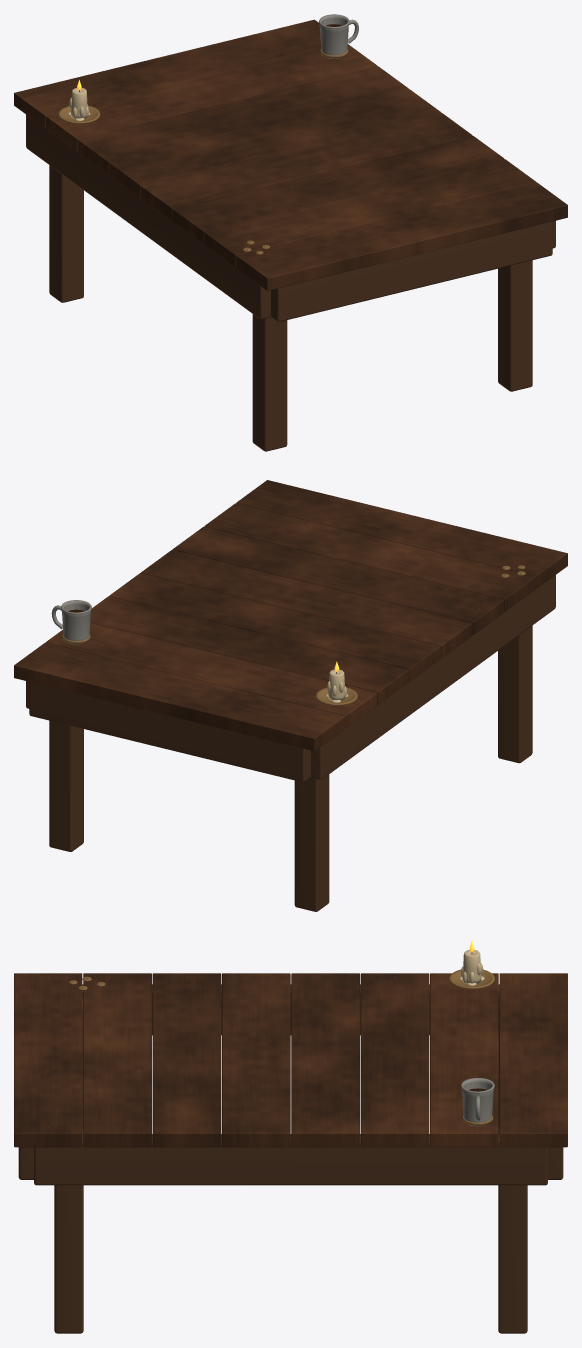
File: tavern-table.glb
3 views of the same model, one above another, from view 1: azimuth 30°, elevation 25°; view 2: azimuth 150°, elevation 25°; view 3: azimuth 270°, elevation 25° (orthographic). The views are drawn at different scales.
Visible parts, largest first — view 1: Tabletop_Plank_01, Tabletop_Plank_03, Tabletop_Plank_06, Tabletop_Plank_04, Tabletop_Plank_05, Tabletop_Plank_02, Table_Apron_Player, Tabletop_Plank_08, Tabletop_Plank_07, Table_Apron_Left, Table_Leg_Left_Player, Table_Leg_Right_Player (+3 smaller); view 2: Tabletop_Plank_08, Tabletop_Plank_03, Tabletop_Plank_04, Tabletop_Plank_05, Tabletop_Plank_02, Tabletop_Plank_01, Table_Apron_Opponent, Tabletop_Plank_06, Tabletop_Plank_07, Table_Apron_Left, Table_Leg_Left_Opponent, Table_Leg_Right_Opponent (+3 smaller); view 3: Table_Apron_Right, Tabletop_Plank_03, Tabletop_Plank_06, Tabletop_Plank_04, Tabletop_Plank_05, Tabletop_Plank_08, Tabletop_Plank_01, Tabletop_Plank_02, Tabletop_Plank_07, Table_Leg_Right_Opponent, Table_Leg_Right_Player, Tankard_Body (+3 smaller).
Boxes of the visible parts, box(x1,y1,x2,y2) form: Tabletop_Plank_01: box(236, 182, 567, 290); Tabletop_Plank_03: box(172, 136, 504, 244); Tabletop_Plank_06: box(77, 66, 408, 174); Tabletop_Plank_04: box(141, 112, 472, 221); Tabletop_Plank_05: box(109, 89, 440, 197); Tabletop_Plank_02: box(204, 159, 535, 267); Table_Apron_Player: box(271, 221, 552, 321); Tabletop_Plank_08: box(14, 19, 321, 128); Tabletop_Plank_07: box(45, 44, 377, 151); Table_Apron_Left: box(26, 114, 270, 319); Table_Leg_Left_Player: box(252, 314, 287, 451); Table_Leg_Right_Player: box(498, 260, 532, 391); Tabletop_Plank_08: box(14, 642, 345, 751); Tabletop_Plank_03: box(172, 526, 504, 634); Tabletop_Plank_04: box(141, 549, 472, 658); Tabletop_Plank_05: box(109, 573, 440, 681); Tabletop_Plank_02: box(204, 503, 536, 611); Tabletop_Plank_01: box(236, 480, 567, 588); Table_Apron_Opponent: box(29, 682, 310, 782); Tabletop_Plank_06: box(90, 596, 409, 704); Tabletop_Plank_07: box(46, 622, 377, 727); Table_Apron_Left: box(311, 575, 555, 779); Table_Leg_Left_Opponent: box(294, 774, 329, 911); Table_Leg_Right_Opponent: box(49, 720, 83, 851); Table_Apron_Right: box(34, 1134, 547, 1185); Tabletop_Plank_03: box(152, 973, 221, 1147); Tabletop_Plank_06: box(360, 973, 429, 1147); Tabletop_Plank_04: box(222, 973, 290, 1147); Tabletop_Plank_05: box(291, 973, 359, 1147); Tabletop_Plank_08: box(499, 973, 567, 1147); Tabletop_Plank_01: box(14, 973, 82, 1147); Tabletop_Plank_02: box(83, 973, 151, 1147); Tabletop_Plank_07: box(430, 973, 498, 1147); Table_Leg_Right_Opponent: box(498, 1128, 527, 1333); Table_Leg_Right_Player: box(54, 1128, 83, 1333); Tankard_Body: box(461, 1079, 494, 1126).
Bounding box in the file's own units: 1.31 × 0.959 × 1.9.
Materials: 9 (1 with a texture image).
